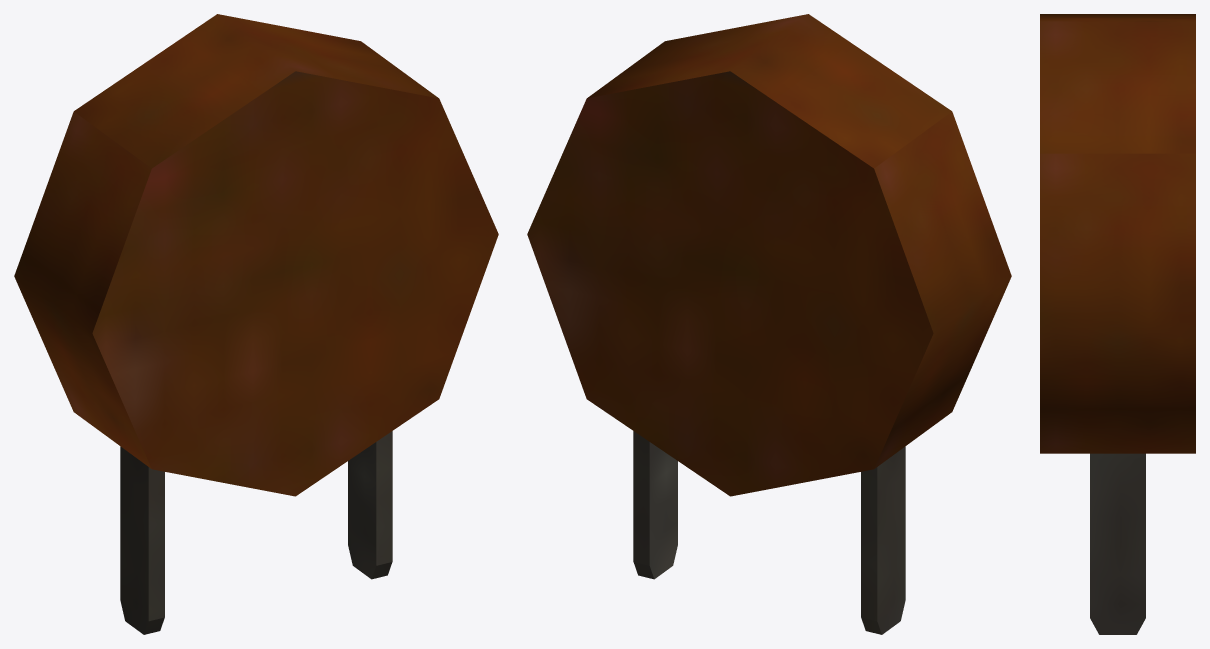
File: capacitor_etx_4.obj
The picture shows the model from 3 angles, left to right: view 1: azimuth 30°, elevation 25°; view 2: azimuth 150°, elevation 25°; view 3: azimuth 270°, elevation 25°; orthographic projection.
Visible parts, largest first — view 1: capacitor_etx_4; view 2: capacitor_etx_4; view 3: capacitor_etx_4.
Part boxes in pixels (x1,y1,x2,y2): capacitor_etx_4: [14, 14, 498, 634]; capacitor_etx_4: [527, 14, 1011, 634]; capacitor_etx_4: [1040, 14, 1195, 634].
Size of the model in its own units: 0.06 by 0.0784 by 0.02.
